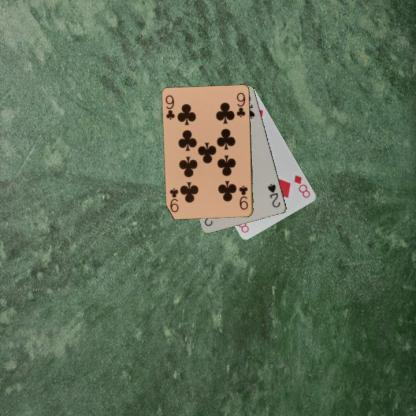2s: (266, 182, 282, 210)
8d: (292, 172, 312, 200)
9c: (162, 92, 176, 121), (236, 183, 248, 212)
